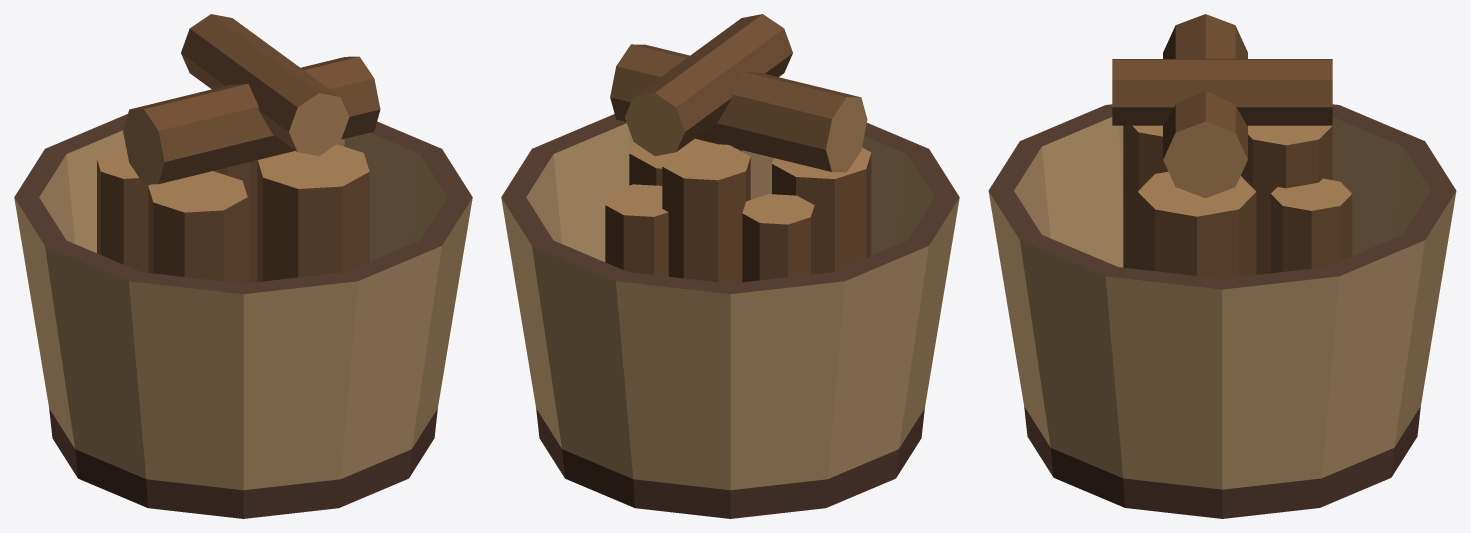
The model's file is FN_Basket_Log.glb.
3 views of the same model, side by side, from view 1: azimuth 30°, elevation 25°; view 2: azimuth 150°, elevation 25°; view 3: azimuth 270°, elevation 25° (orthographic). The views are drawn at different scales.
Parts seen in each view (by area): view 1: FN_Basket_Log; view 2: FN_Basket_Log; view 3: FN_Basket_Log.
Boxes of the visible parts, x1=… form: FN_Basket_Log: x1=14, y1=14, x2=472, y2=518; FN_Basket_Log: x1=501, y1=14, x2=959, y2=518; FN_Basket_Log: x1=988, y1=14, x2=1456, y2=518.
Size of the model in its own units: 0.552 by 0.504 by 0.552.
Materials: 1 (1 with a texture image).
